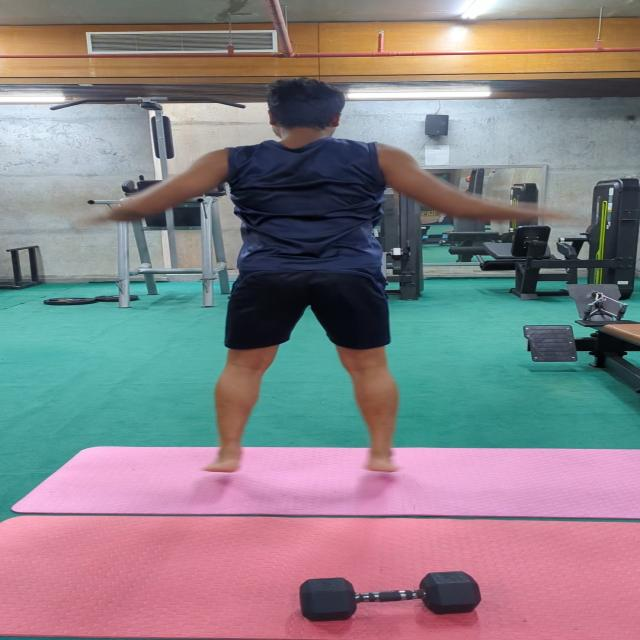Normal_JumpingJacks: (79, 59, 498, 501)
